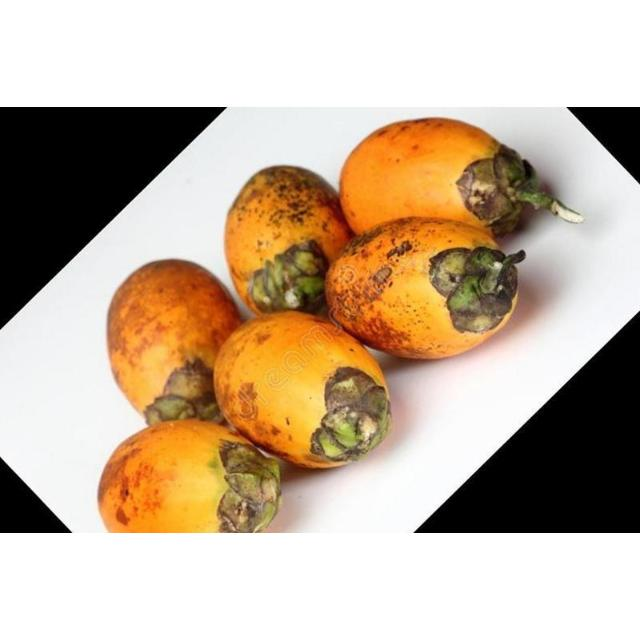good: (216, 316, 394, 466), (326, 218, 509, 360), (105, 262, 238, 424), (338, 118, 506, 238), (224, 166, 350, 320), (99, 422, 271, 532)
